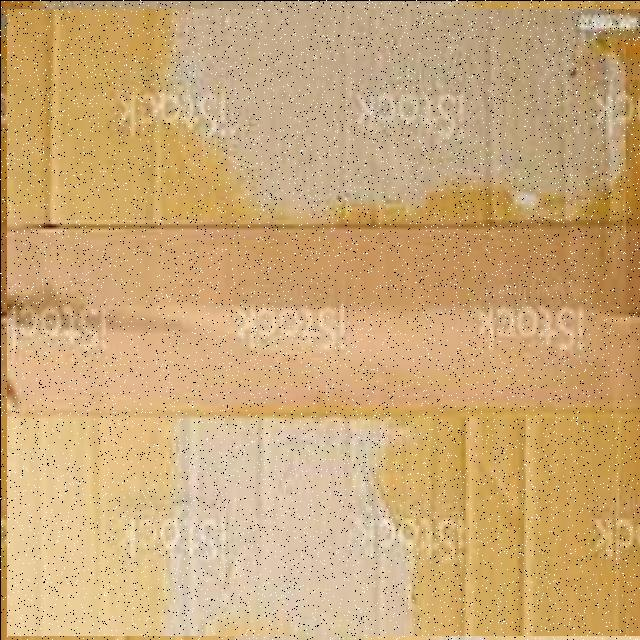defect: (6, 8, 640, 635)
